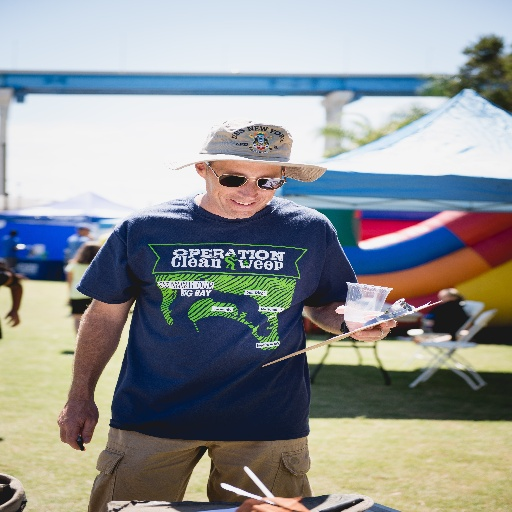hand: (47, 392, 93, 452), (335, 302, 395, 343)
